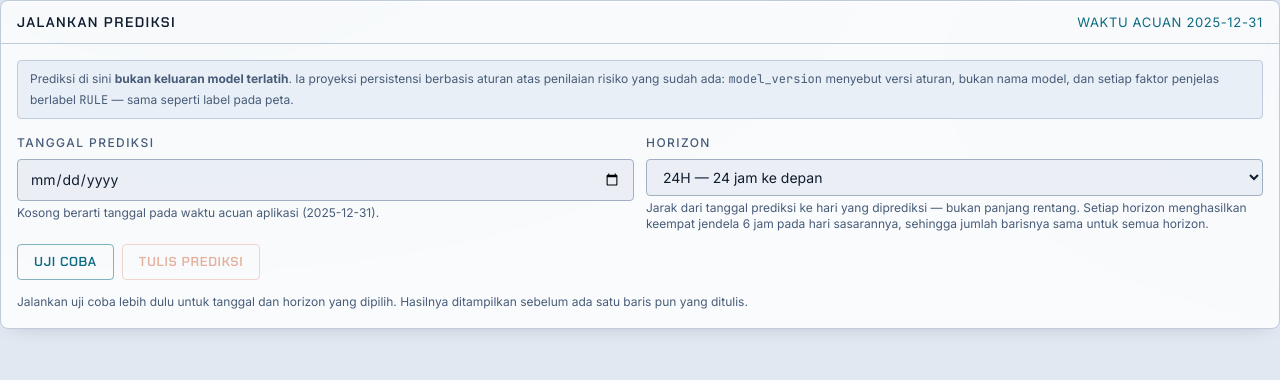
it: tombol penjalanan › menampilkan penolakan backend apa adanya
Click the button "Uji Coba" at (65, 262), box top-left (17, 244), bottom-right (114, 280)
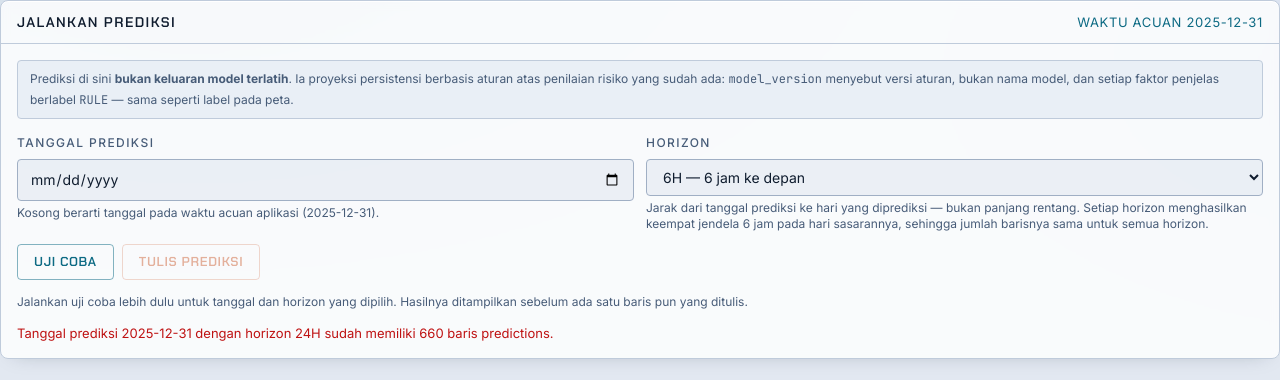
Now the message shows "660 baris", box top-left (17, 324), bottom-right (554, 340)
